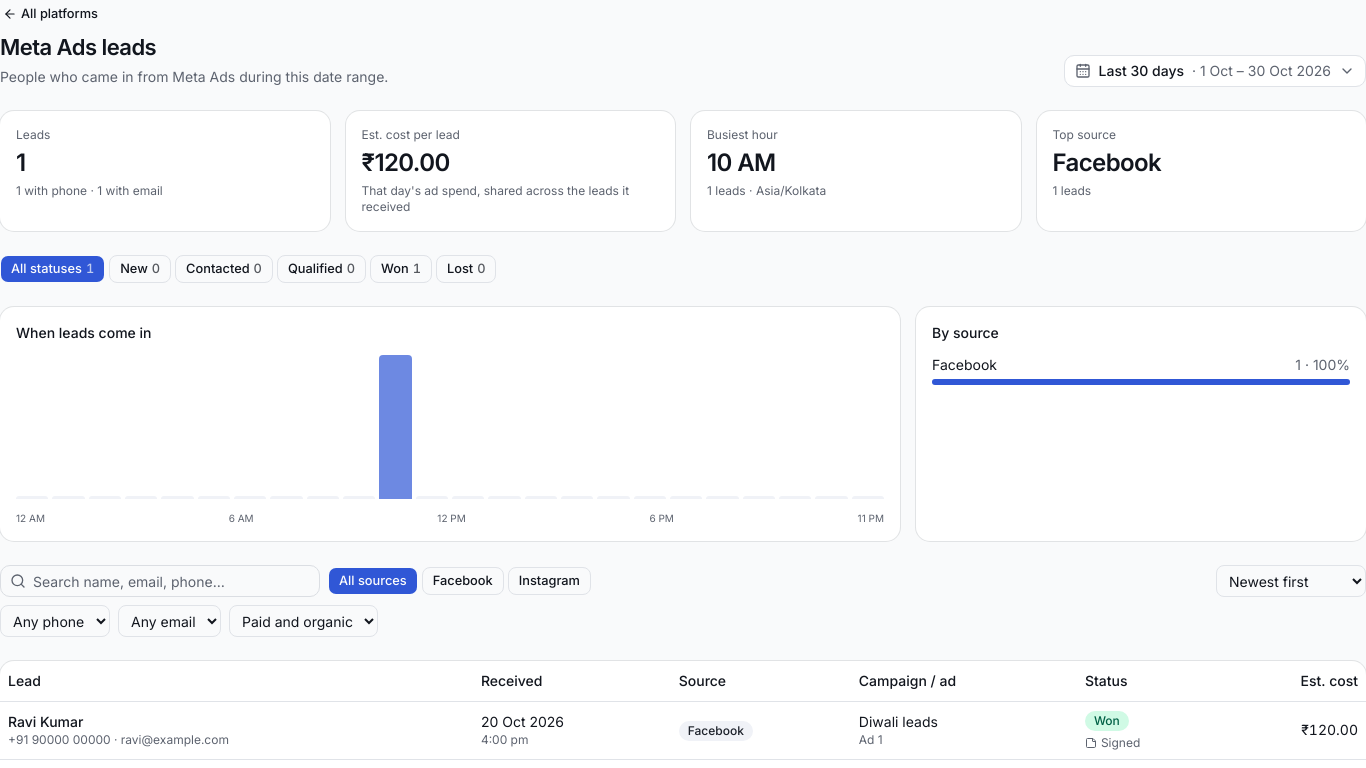
Scenario: Lead status and notes › CLIENT sees status and note but can't change them
Expected: the icon "Won" is shown, left=1085, top=711, right=1129, bottom=731
Click the text "Ravi Kumar" at coordinates (46, 722), box left=8, top=713, right=83, bottom=730
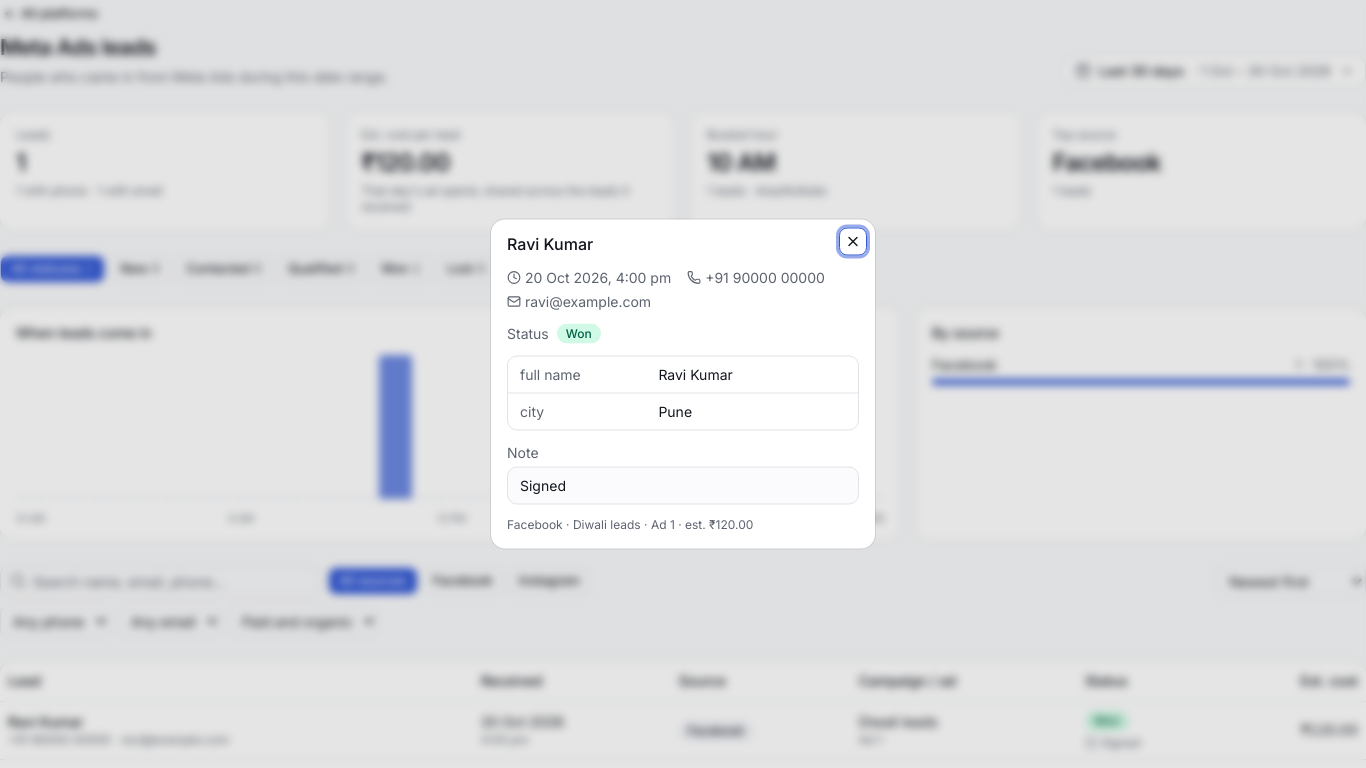
Expected: the text "Signed" is shown, left=507, top=466, right=859, bottom=504
